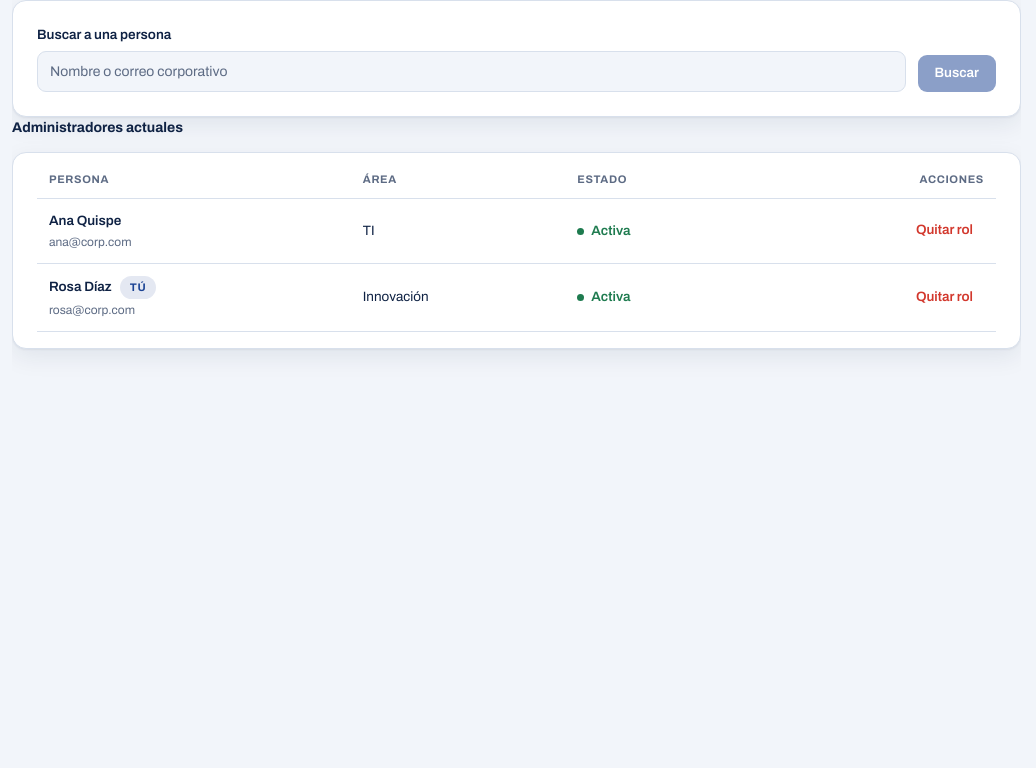
Test case: <AdministradoresAdmin /> — la búsqueda › avisa cuando los resultados salen solo del portal
Type "beto" into the field labelled "Buscar a una persona" at [471, 72], box [37,51,906,92]
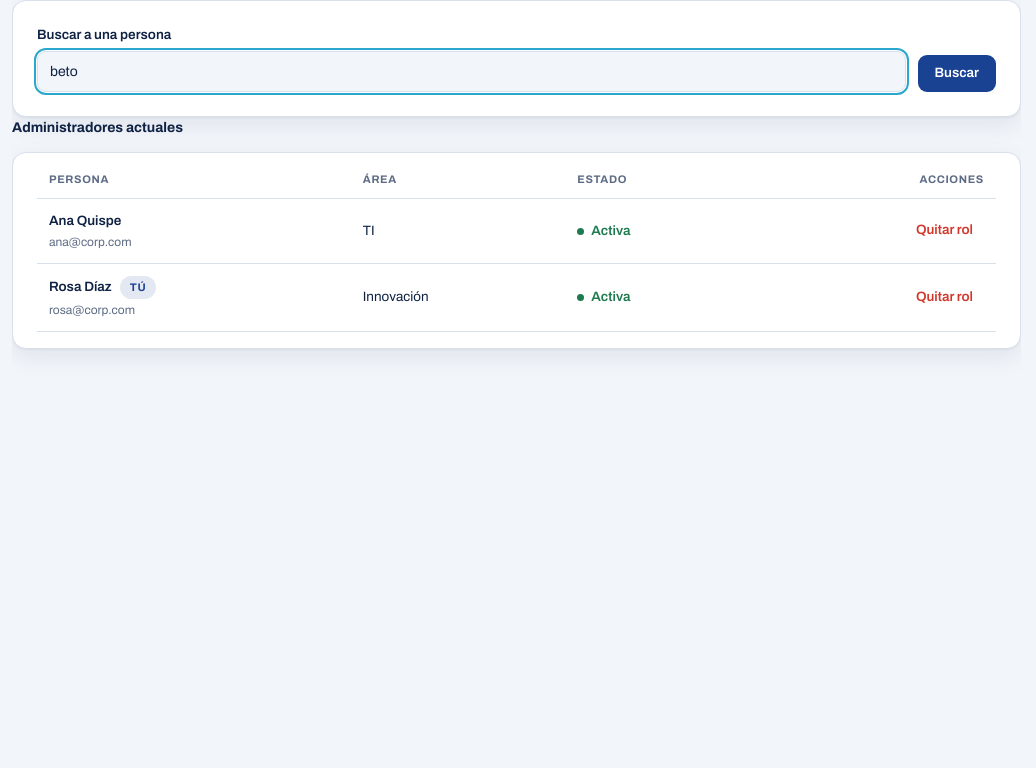
Click the button "Buscar" at [957, 74], box [918,55,996,92]
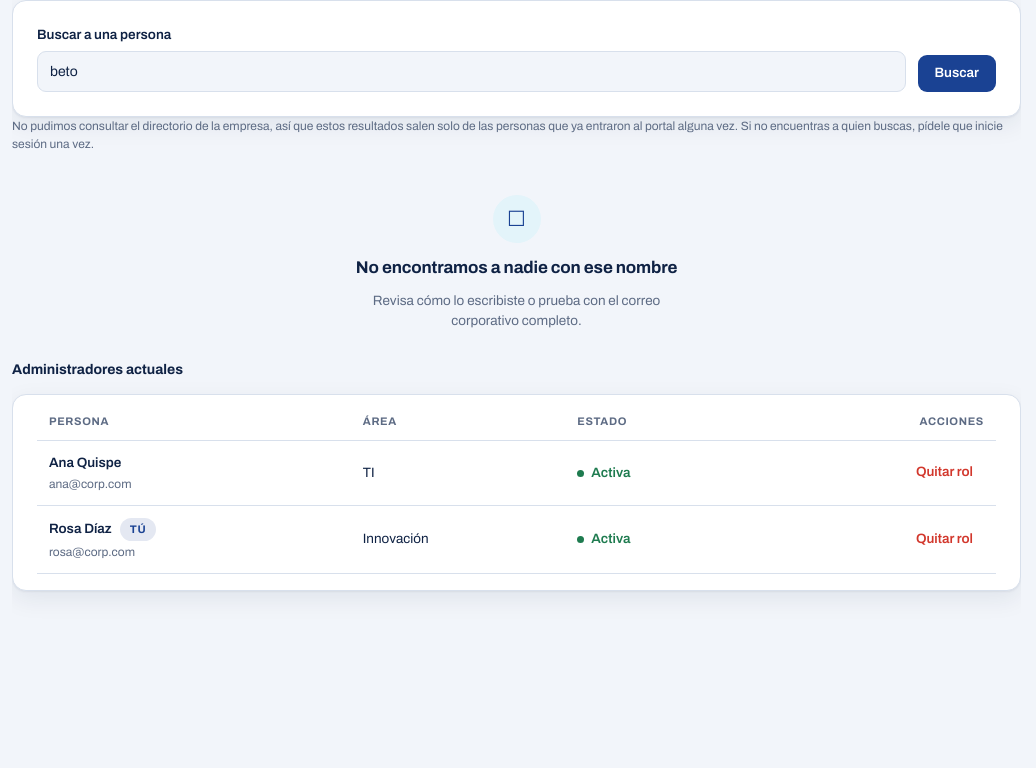
Result: the text "inicie sesión una vez" is shown at [12,119,1003,151]
